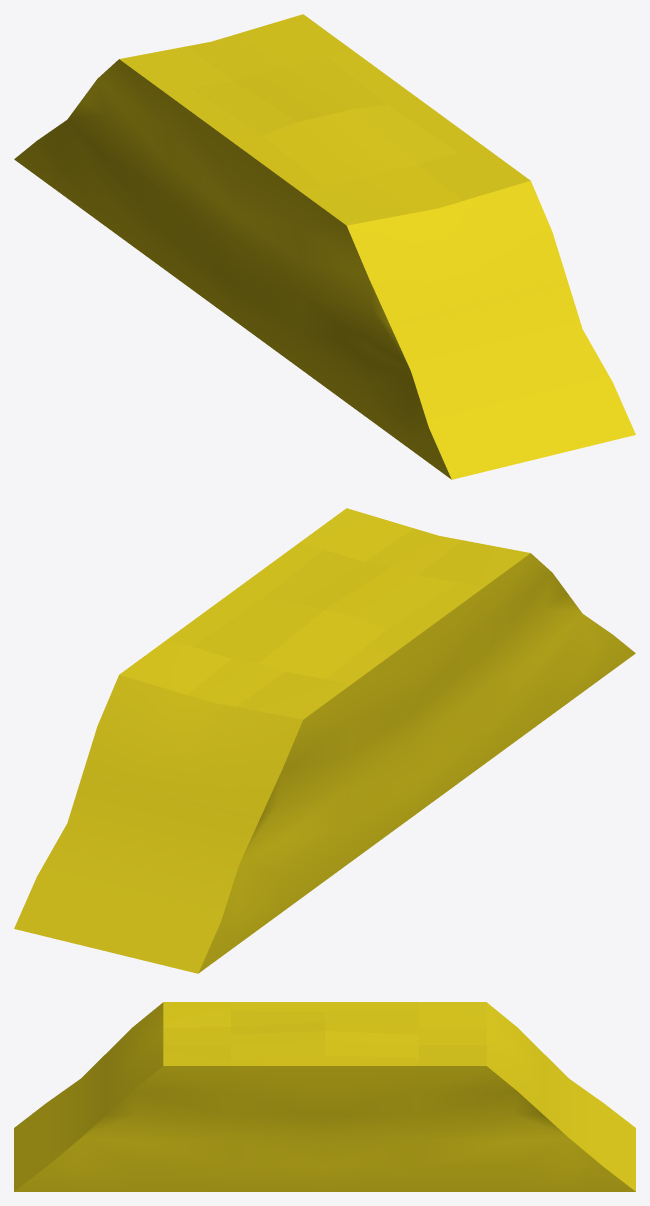
File: wood log 0,7.fbx
3 views of the same model, one above another, from view 1: azimuth 30°, elevation 25°; view 2: azimuth 150°, elevation 25°; view 3: azimuth 270°, elevation 25° (orthographic). The views are drawn at different scales.
Parts seen in each view (by area): view 1: wood log 0,7; view 2: wood log 0,7; view 3: wood log 0,7.
Boxes of the visible parts, x1,y1,x2,y2 form: wood log 0,7: (14,14,635,479); wood log 0,7: (14,508,635,973); wood log 0,7: (14,1002,635,1191).
Size of the model in its own units: 0.17 by 0.16 by 0.7.
